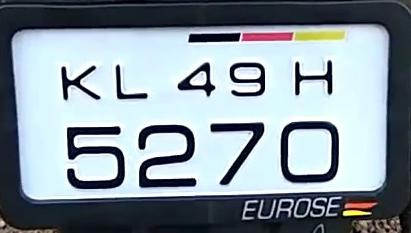0: (278, 118, 343, 182)
2: (137, 123, 200, 189)
4: (174, 60, 218, 97)
5: (61, 123, 127, 190)
7: (206, 120, 265, 184)
9: (228, 60, 267, 99)
H: (290, 59, 335, 94)
K: (59, 61, 104, 102)
L: (110, 61, 149, 101)
